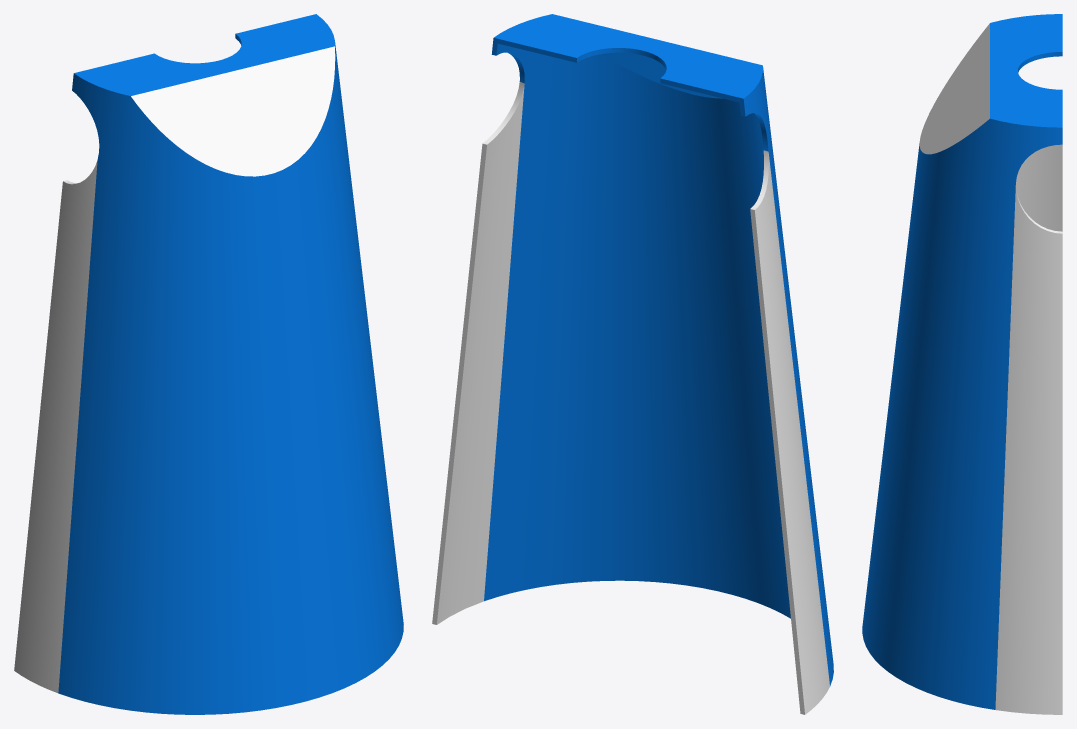
File: sobit_mini_body_cover.dae
3 views of the same model, side by side, from view 1: azimuth 30°, elevation 25°; view 2: azimuth 150°, elevation 25°; view 3: azimuth 270°, elevation 25° (orthographic). The views are drawn at different scales.
Visible parts, largest first — view 1: Assembly 14; view 2: Assembly 14; view 3: Assembly 14.
Part boxes in pixels (bbox=[...]): Assembly 14: bbox=[14, 14, 403, 714]; Assembly 14: bbox=[432, 14, 833, 714]; Assembly 14: bbox=[862, 14, 1062, 714].
Bounding box in the file's own units: 0.4025 × 0.2011 × 0.62.
